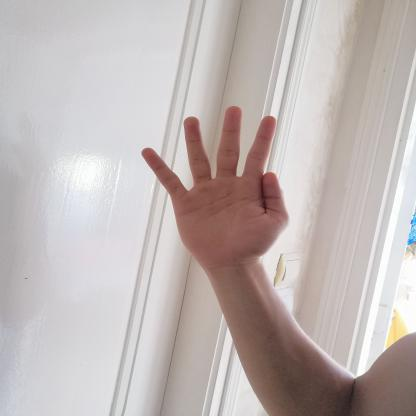SHEEN: (133, 98, 298, 268)
